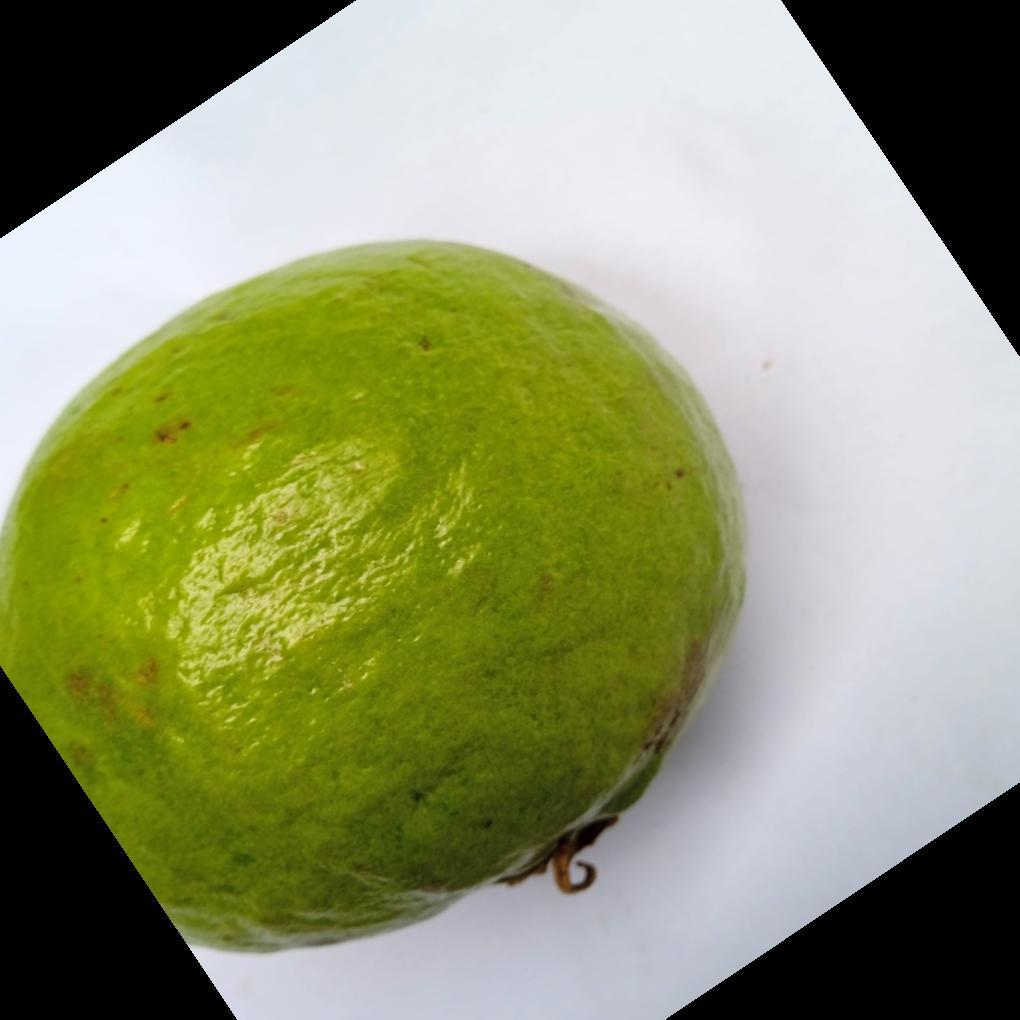FreshGuava: (0, 237, 750, 959)
